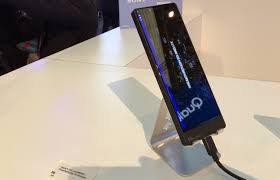sony: (131, 1, 227, 145)
